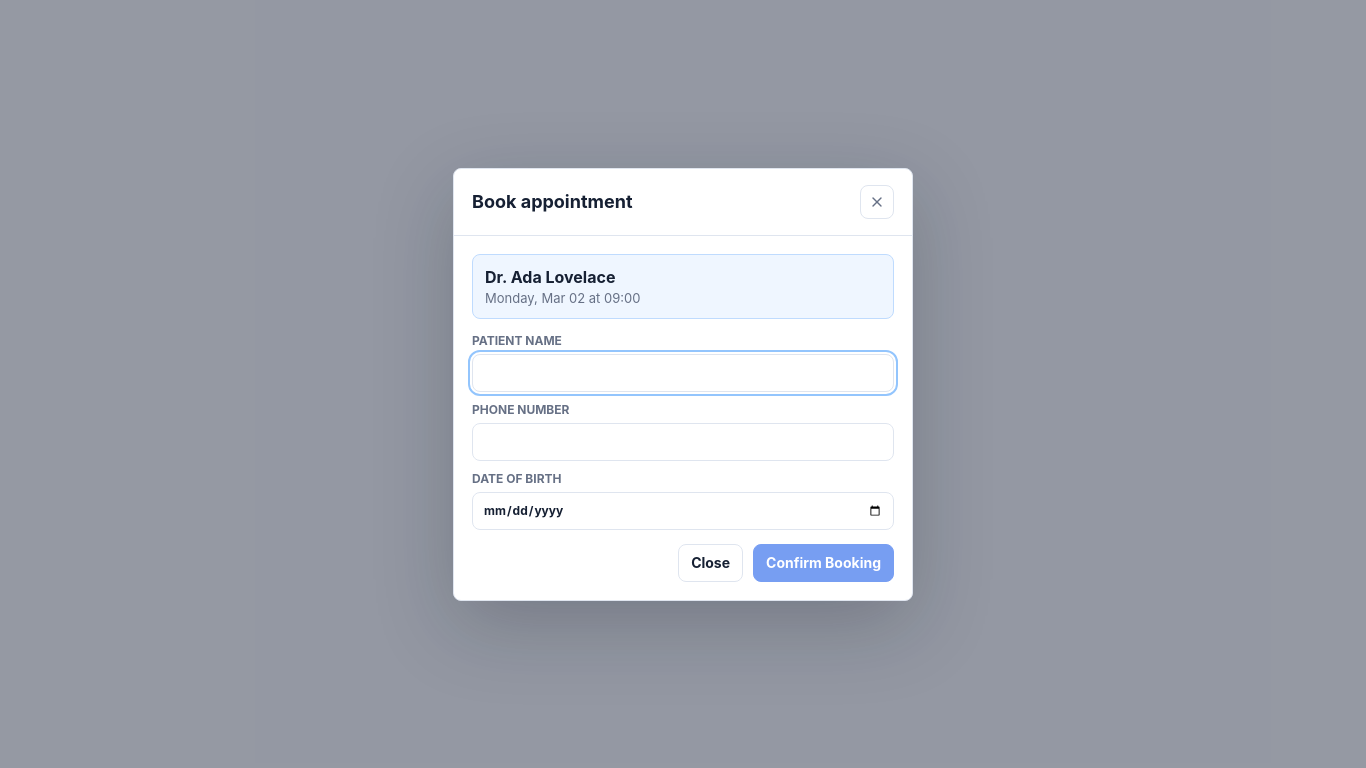
it: BookingDialog › shows what the API refused and keeps what was typed
Type "Grace Hopper" into the field labelled "Patient Name" at (683, 372), box [472,354,894,392]
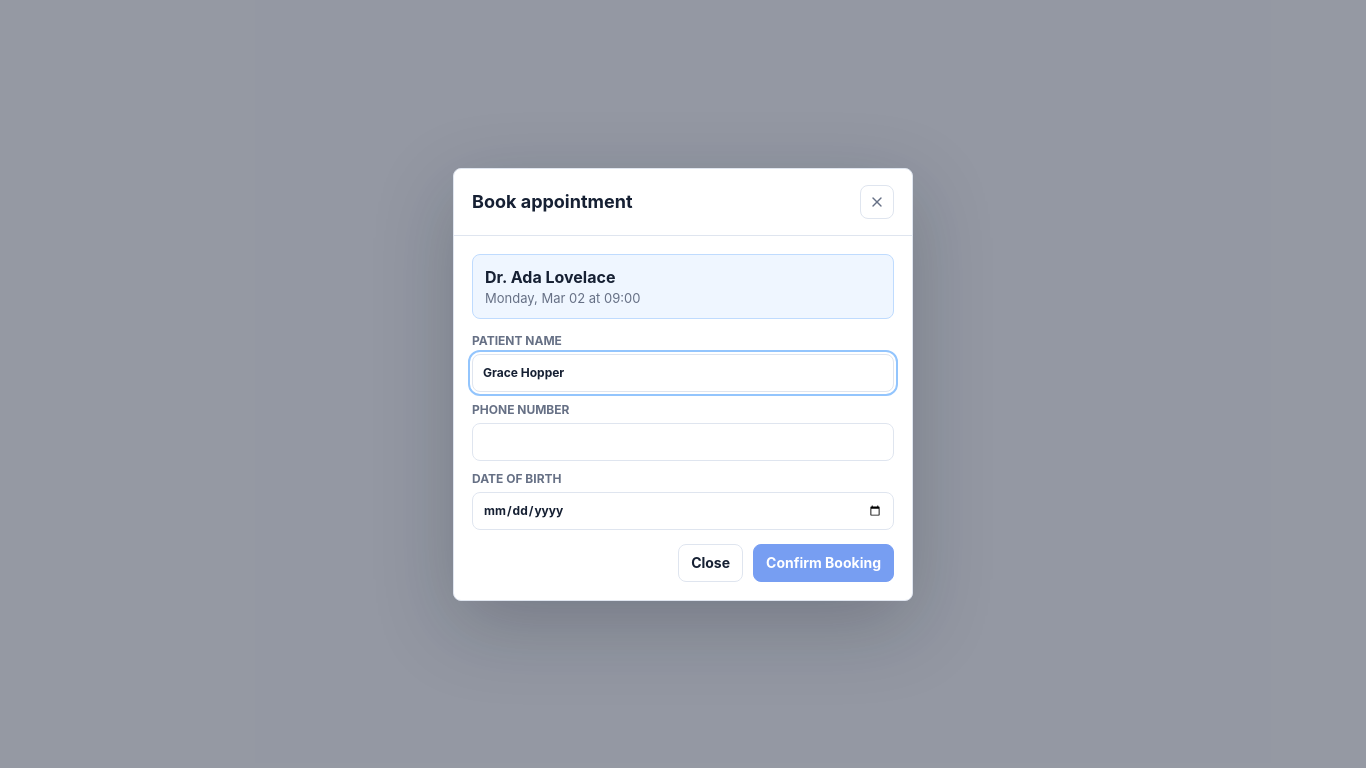
Type "0888123456" into the field labelled "Phone Number" at (683, 442), box [472,422,894,460]
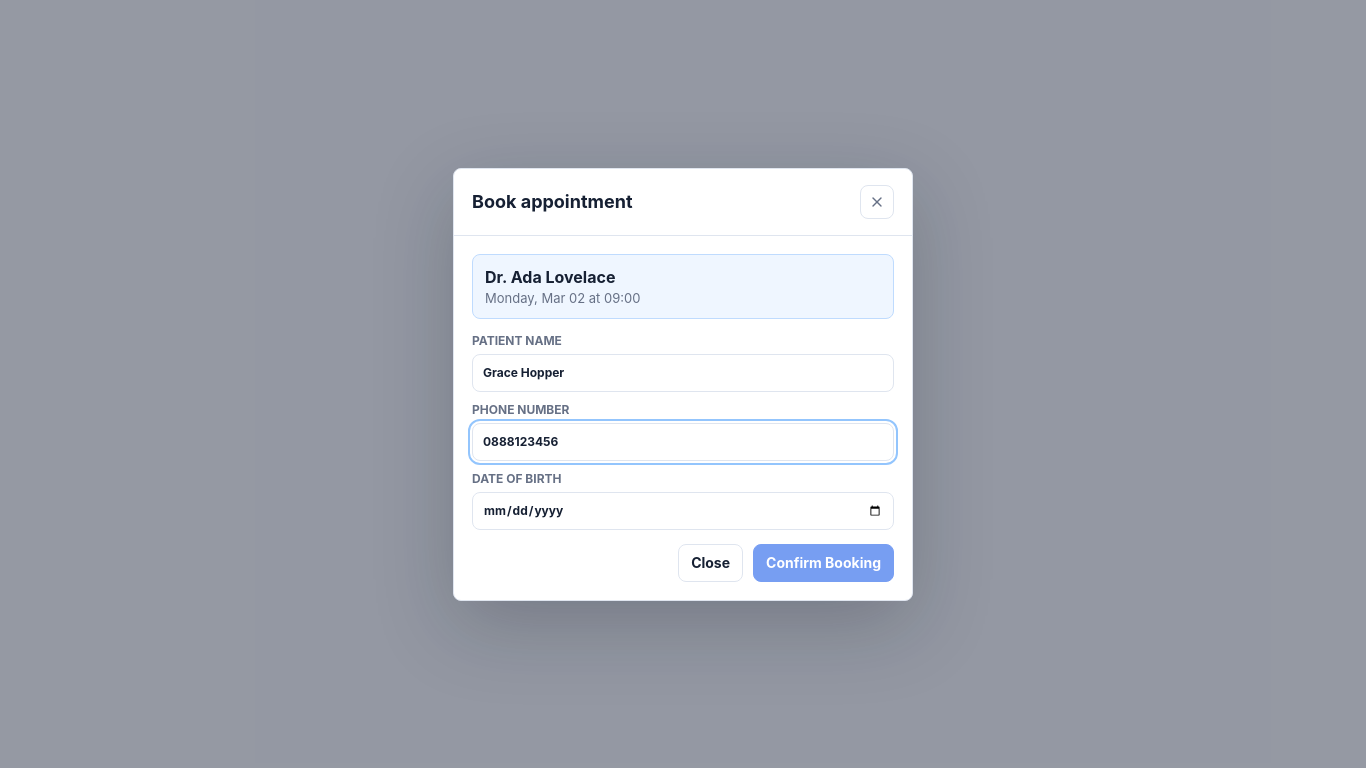
Type "1990-05-20" into the date field labelled "Date of Birth" at (683, 510), box [472,492,894,530]
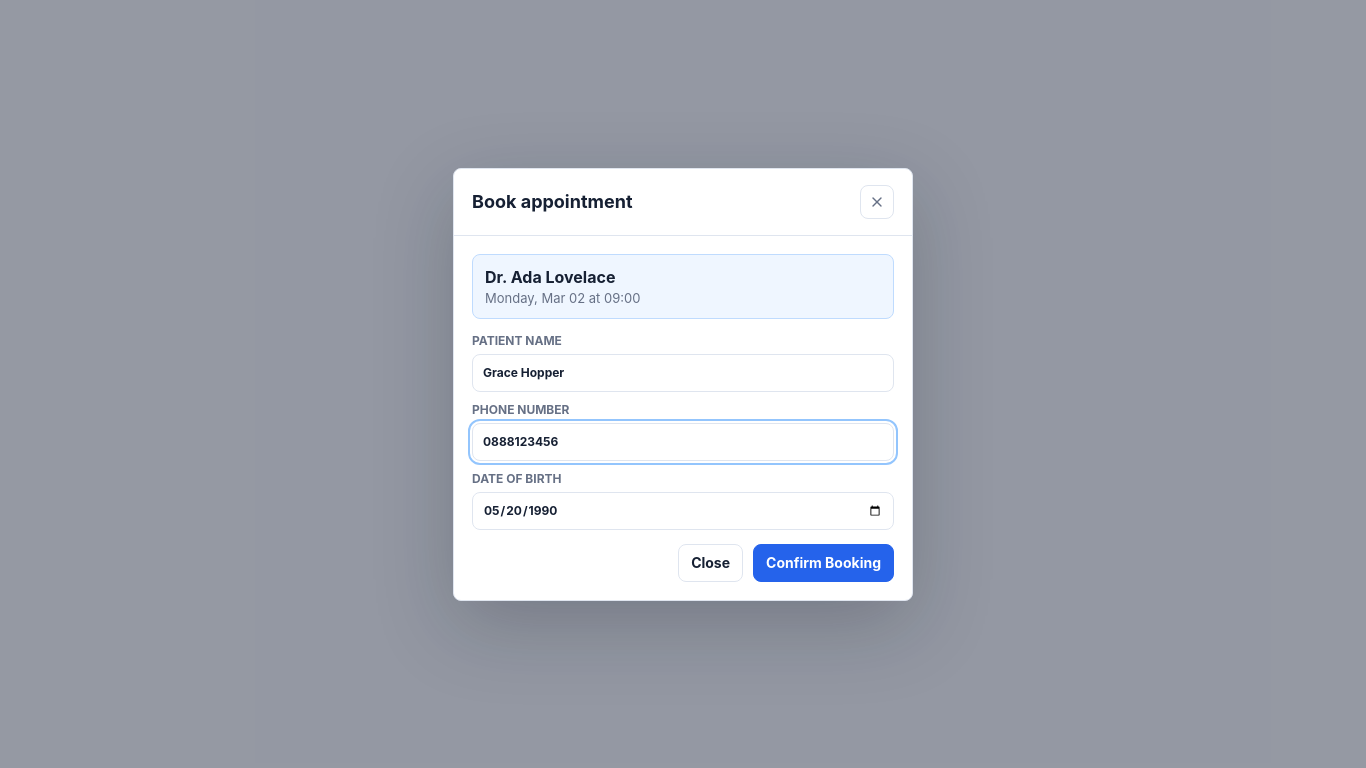
Click the button "Confirm Booking" at (824, 562), box [753,544,894,582]
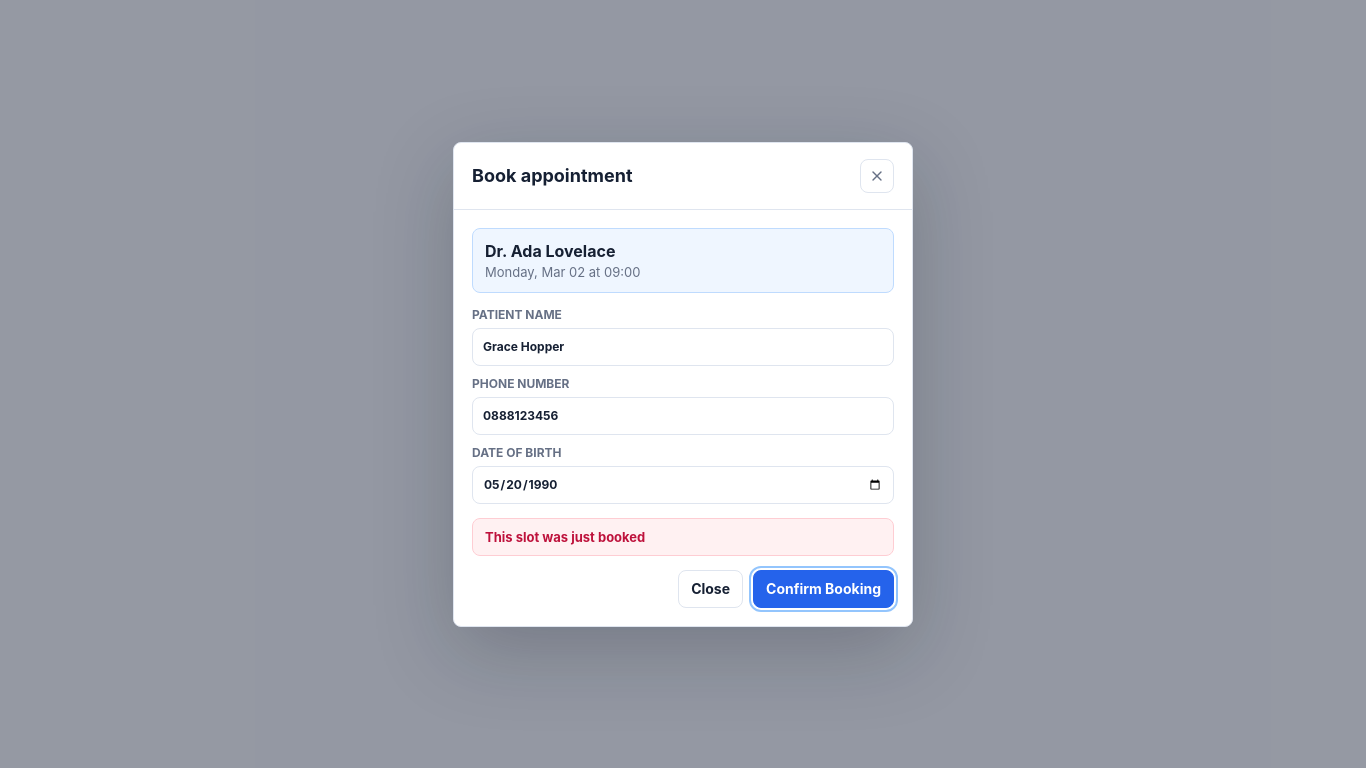
Check: the text "This slot was just booked" is shown, box [472,518,894,556]
